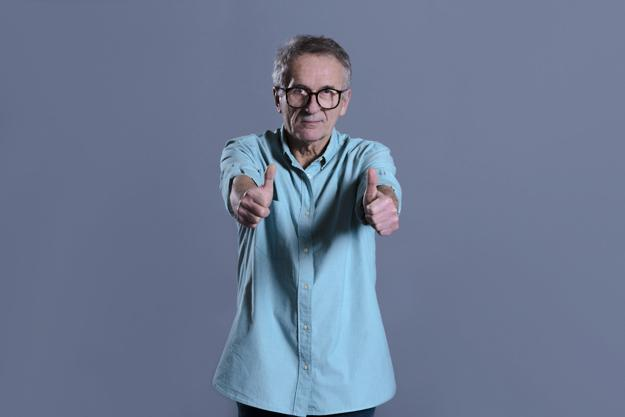thumbsup: (363, 168, 400, 236), (237, 164, 276, 228)
